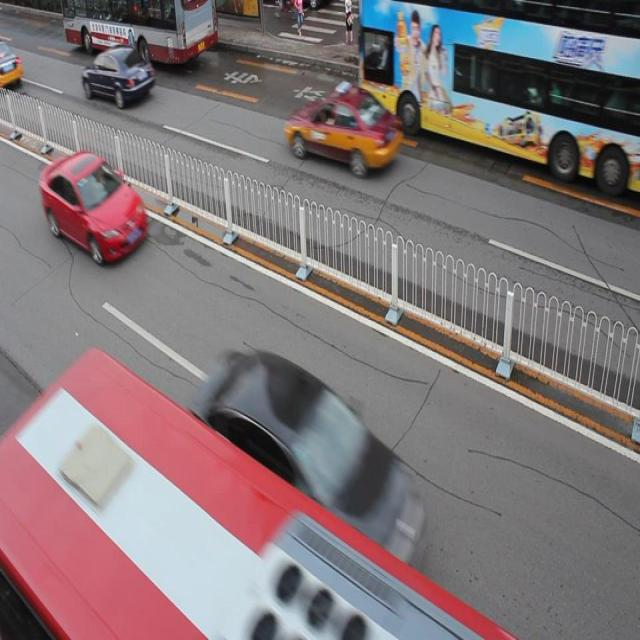car: (210, 346, 418, 564), (40, 147, 147, 262), (286, 86, 401, 174), (81, 41, 156, 108), (0, 44, 22, 89)
van: (1, 346, 513, 640), (358, 1, 640, 192), (61, 1, 217, 64)
